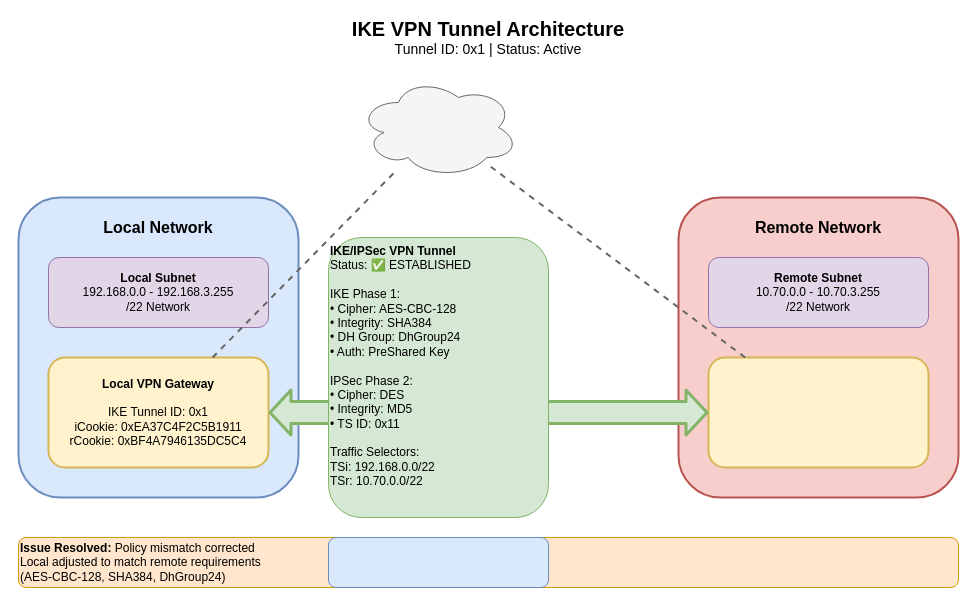
Some shapes in this 976 by 605 pixel diagram are drawn without their labels. The shapes that lost their labels are listed below. From the top down, each one's centre as x and y in pixels, then its label:
At point 438,127: "INTERNET".
At point 818,412: "Remote VPN Gateway Received SA_INIT Multiple iCookies received".
At point 438,562: "All Protocols/Ports Allowed: Protocol: 0 (All) | Ports: 0-65535".
